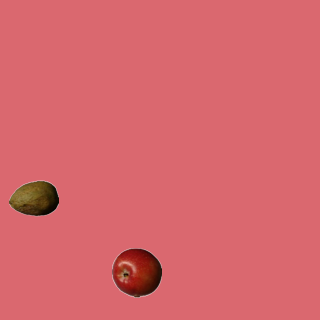Apple Braeburn: (111, 247, 161, 297)
Papaya: (8, 173, 58, 223)
